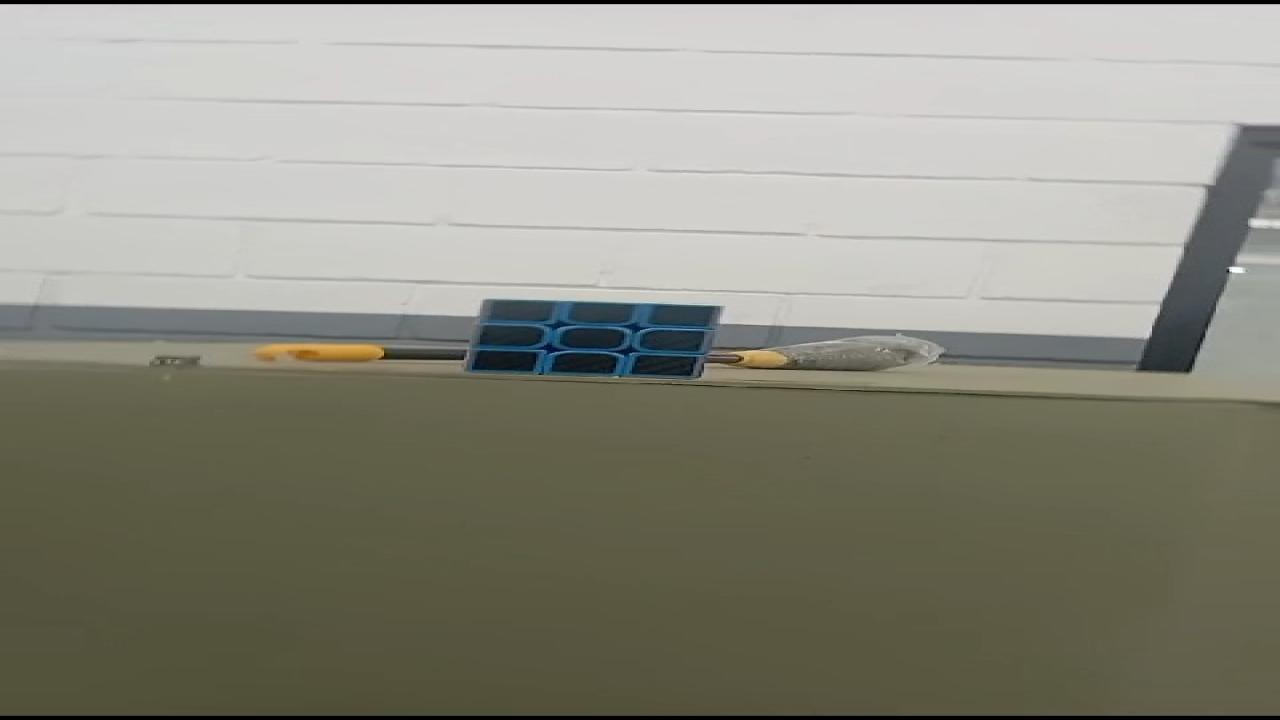Cube: (456, 297, 723, 380)
